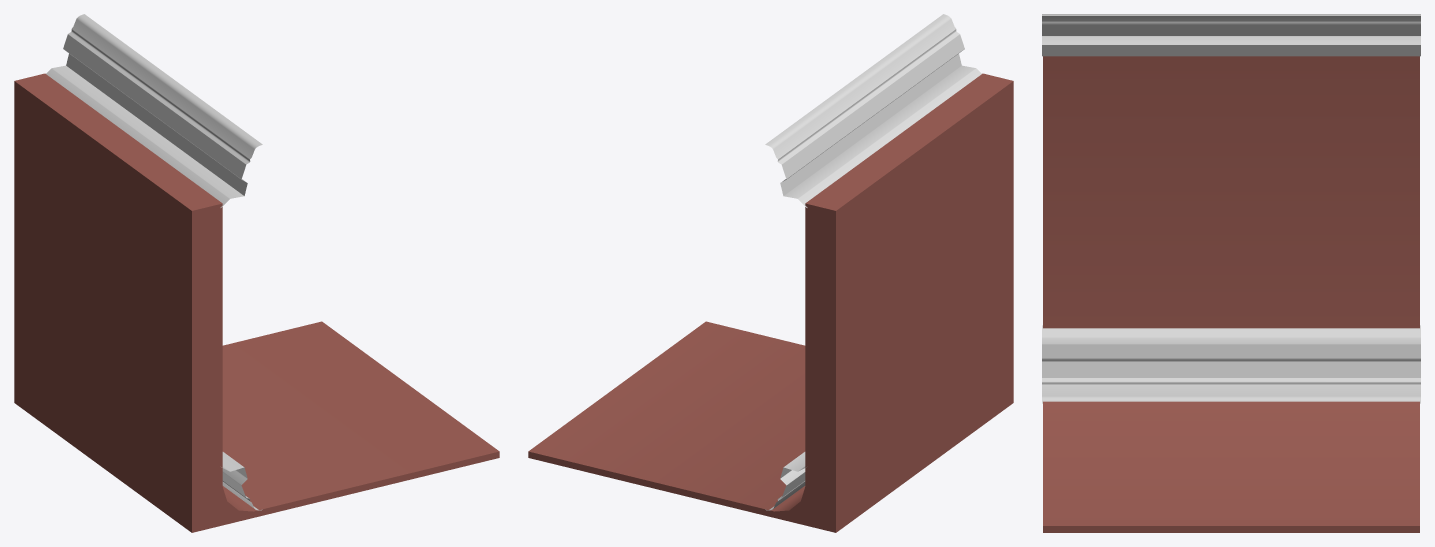
The model's file is Tileset_Piece_31.fbx.
The picture shows the model from 3 angles, left to right: view 1: azimuth 30°, elevation 25°; view 2: azimuth 150°, elevation 25°; view 3: azimuth 270°, elevation 25°; orthographic projection. The views are drawn at different scales.
Visible parts, largest first — view 1: Tileset_Piece_31; view 2: Tileset_Piece_31; view 3: Tileset_Piece_31.
Part boxes in pixels (x1,y1,x2,y2): Tileset_Piece_31: [14, 14, 499, 532]; Tileset_Piece_31: [528, 14, 1013, 532]; Tileset_Piece_31: [1042, 14, 1420, 532].
Size of the model in its own units: 100 by 115 by 100.
